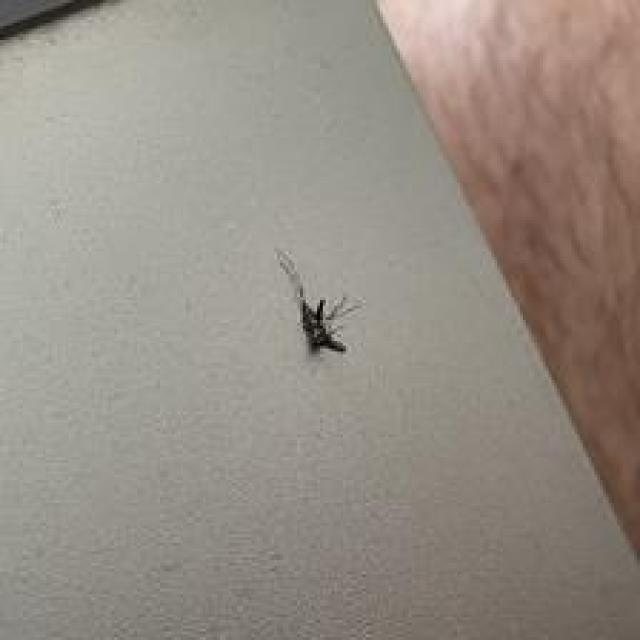Aedes albopictus: (273, 246, 361, 357)
